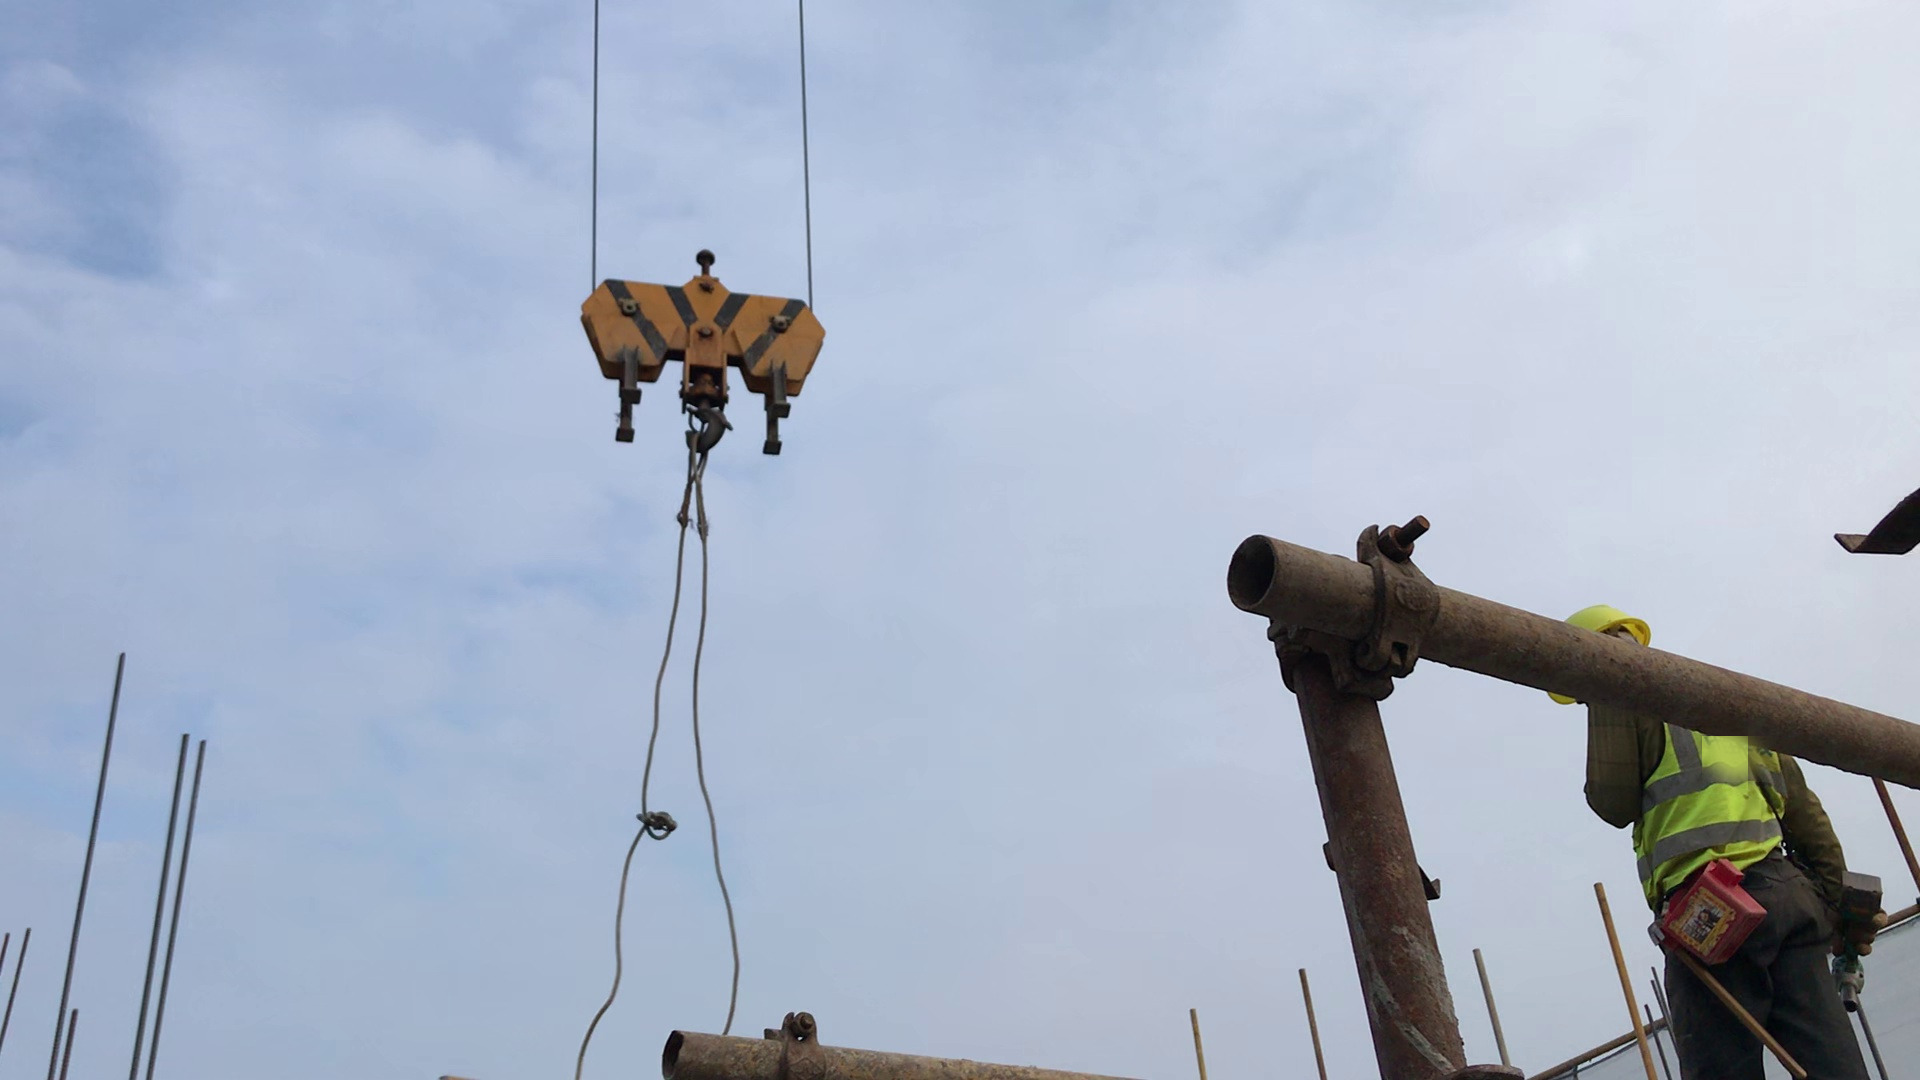helmet: (1554, 607, 1650, 708)
hook: (574, 238, 858, 458)
person: (1546, 599, 1896, 1080)
vest: (1635, 702, 1803, 891)
